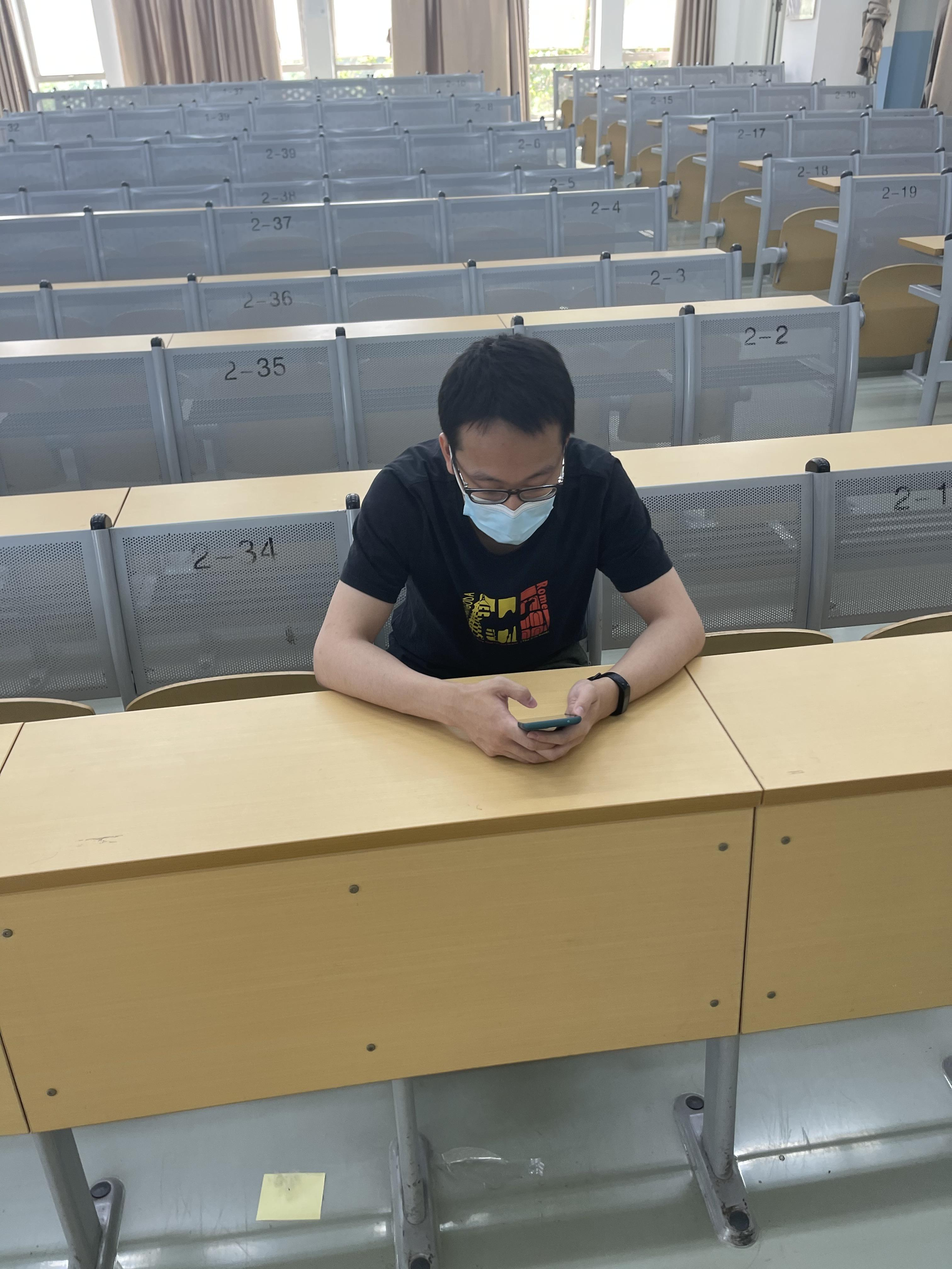phone: (313, 333, 708, 762)
